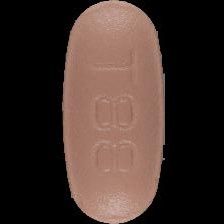60429-311: (0, 0, 224, 224)
